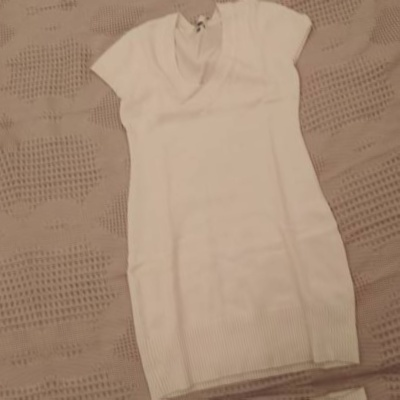Dress: (30, 0, 400, 400), (0, 38, 17, 400), (101, 381, 400, 400)
